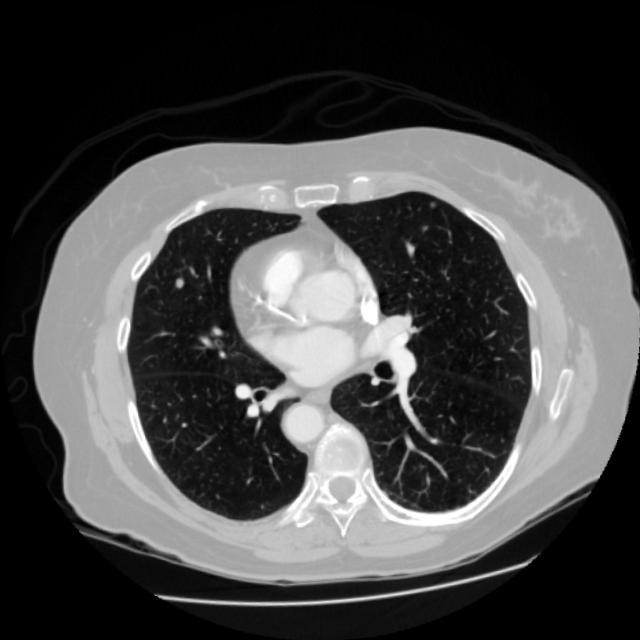nodule: (166, 266, 196, 296)
